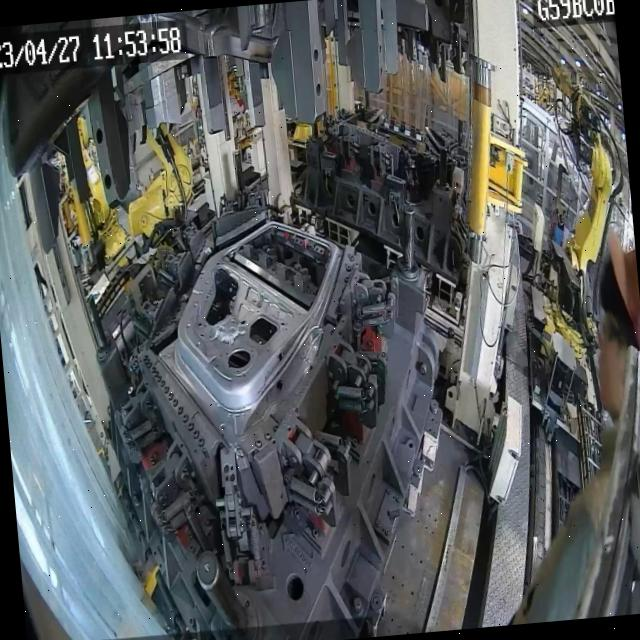Person: (584, 226, 640, 433)
